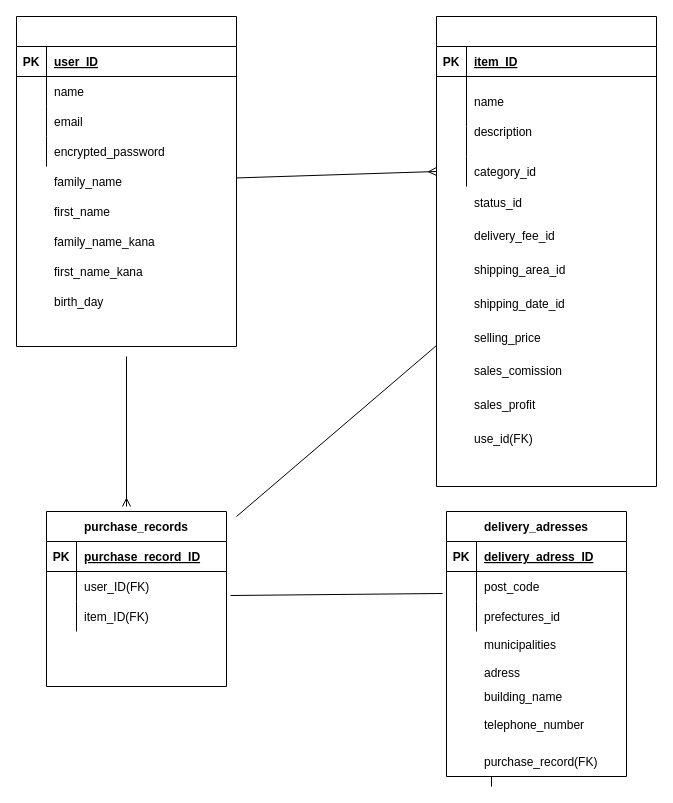
This 673x803 diagram has some shape labels left out. The shapes that lost their labels are listed below. From the top down, each one's box as (x1, y1, x2, y2) in pixels, then its label:
(16, 16, 236, 346): users
(436, 16, 656, 486): items
